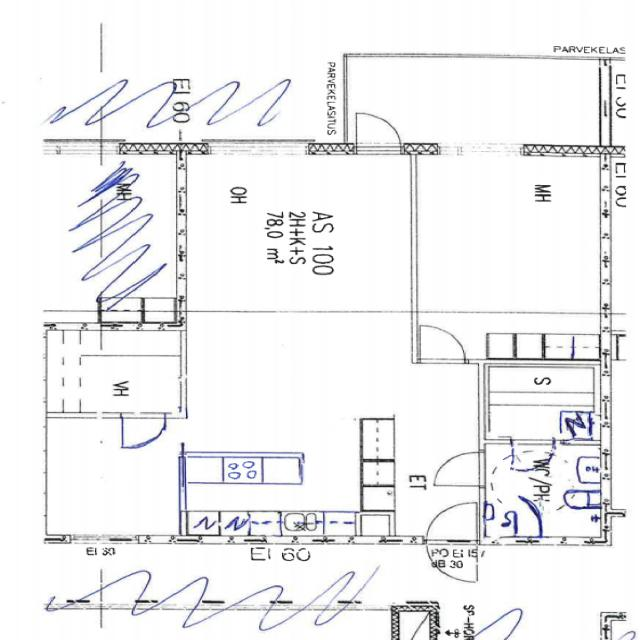door: (424, 534, 476, 581), (424, 496, 476, 542), (355, 108, 401, 154), (432, 451, 486, 486), (420, 324, 465, 364), (121, 413, 166, 451), (494, 439, 536, 475)
